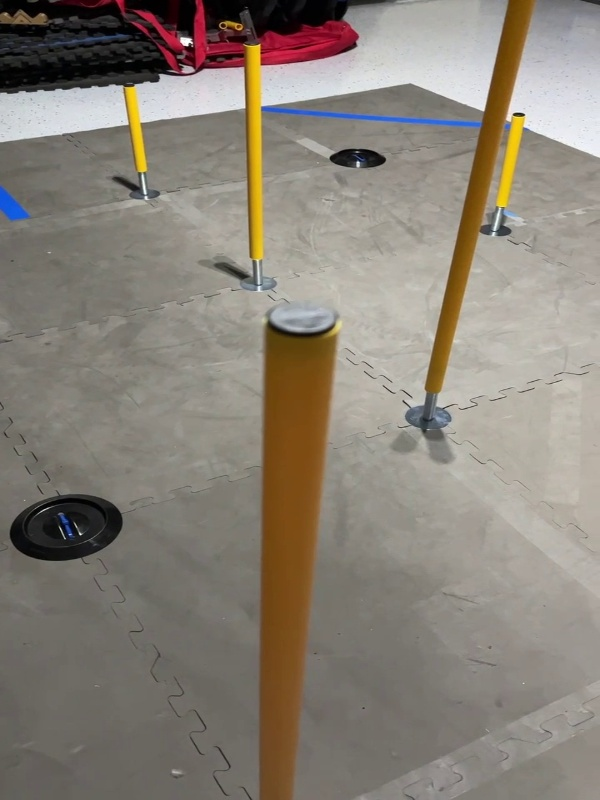top: (258, 296, 347, 343)
